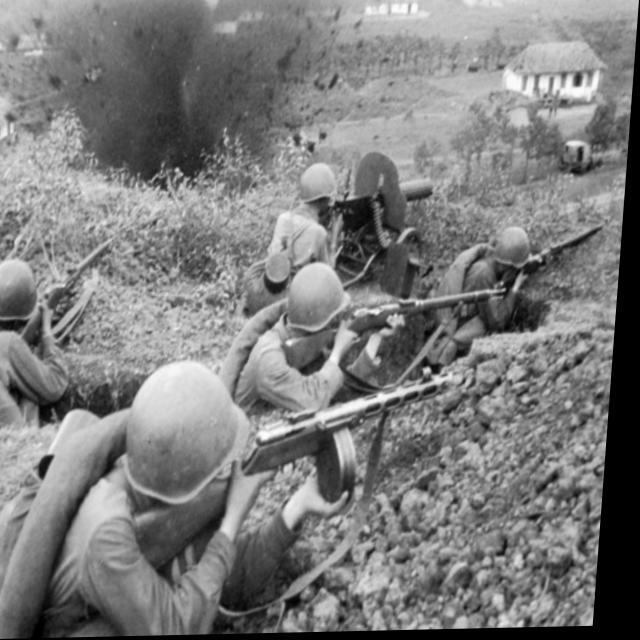other: (41, 345, 263, 639), (221, 232, 382, 457), (434, 191, 595, 347), (0, 229, 93, 414), (259, 115, 359, 280)
